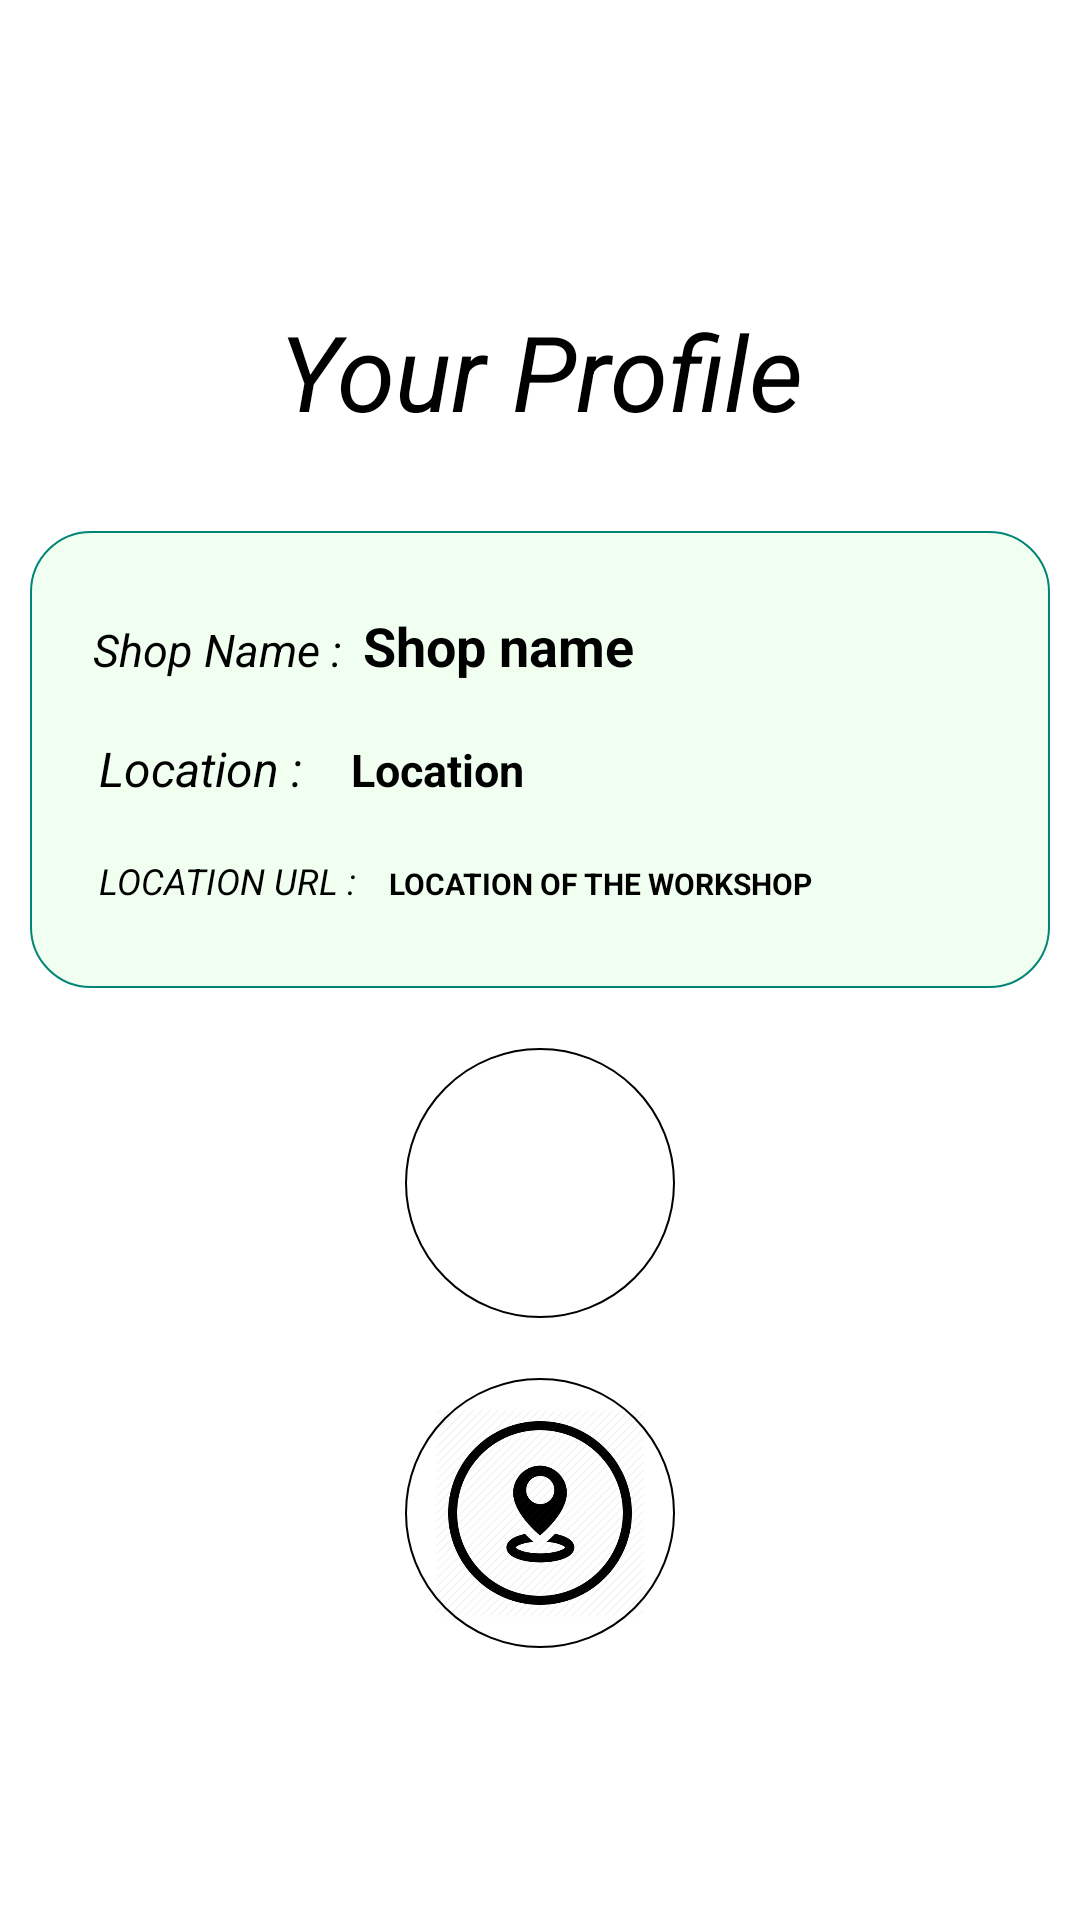

Named icons in this screenshot (1080×1920) and their bounding boxes, Rect(x1, y1, x2, y2):
loc: Rect(448, 1421, 632, 1605)
